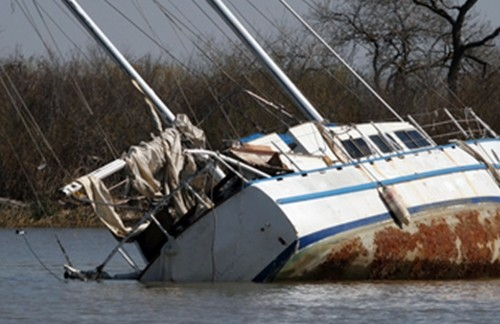rust: (377, 229, 493, 274), (318, 243, 364, 273)
